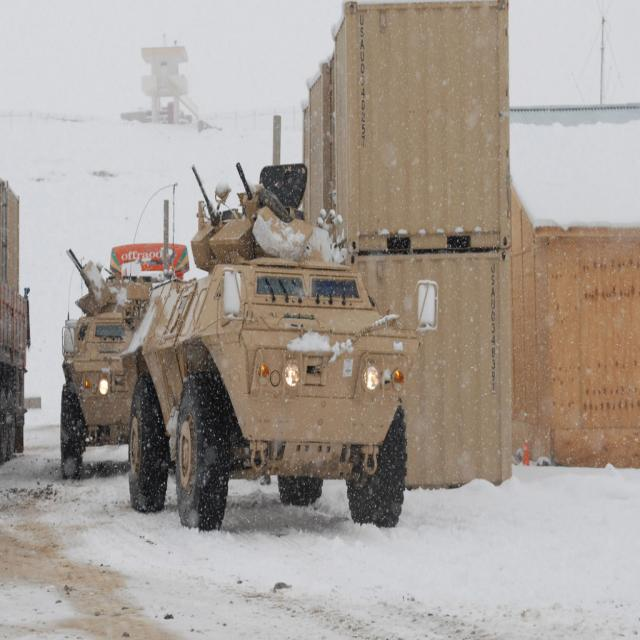tank: (127, 112, 422, 529), (60, 198, 168, 481)
